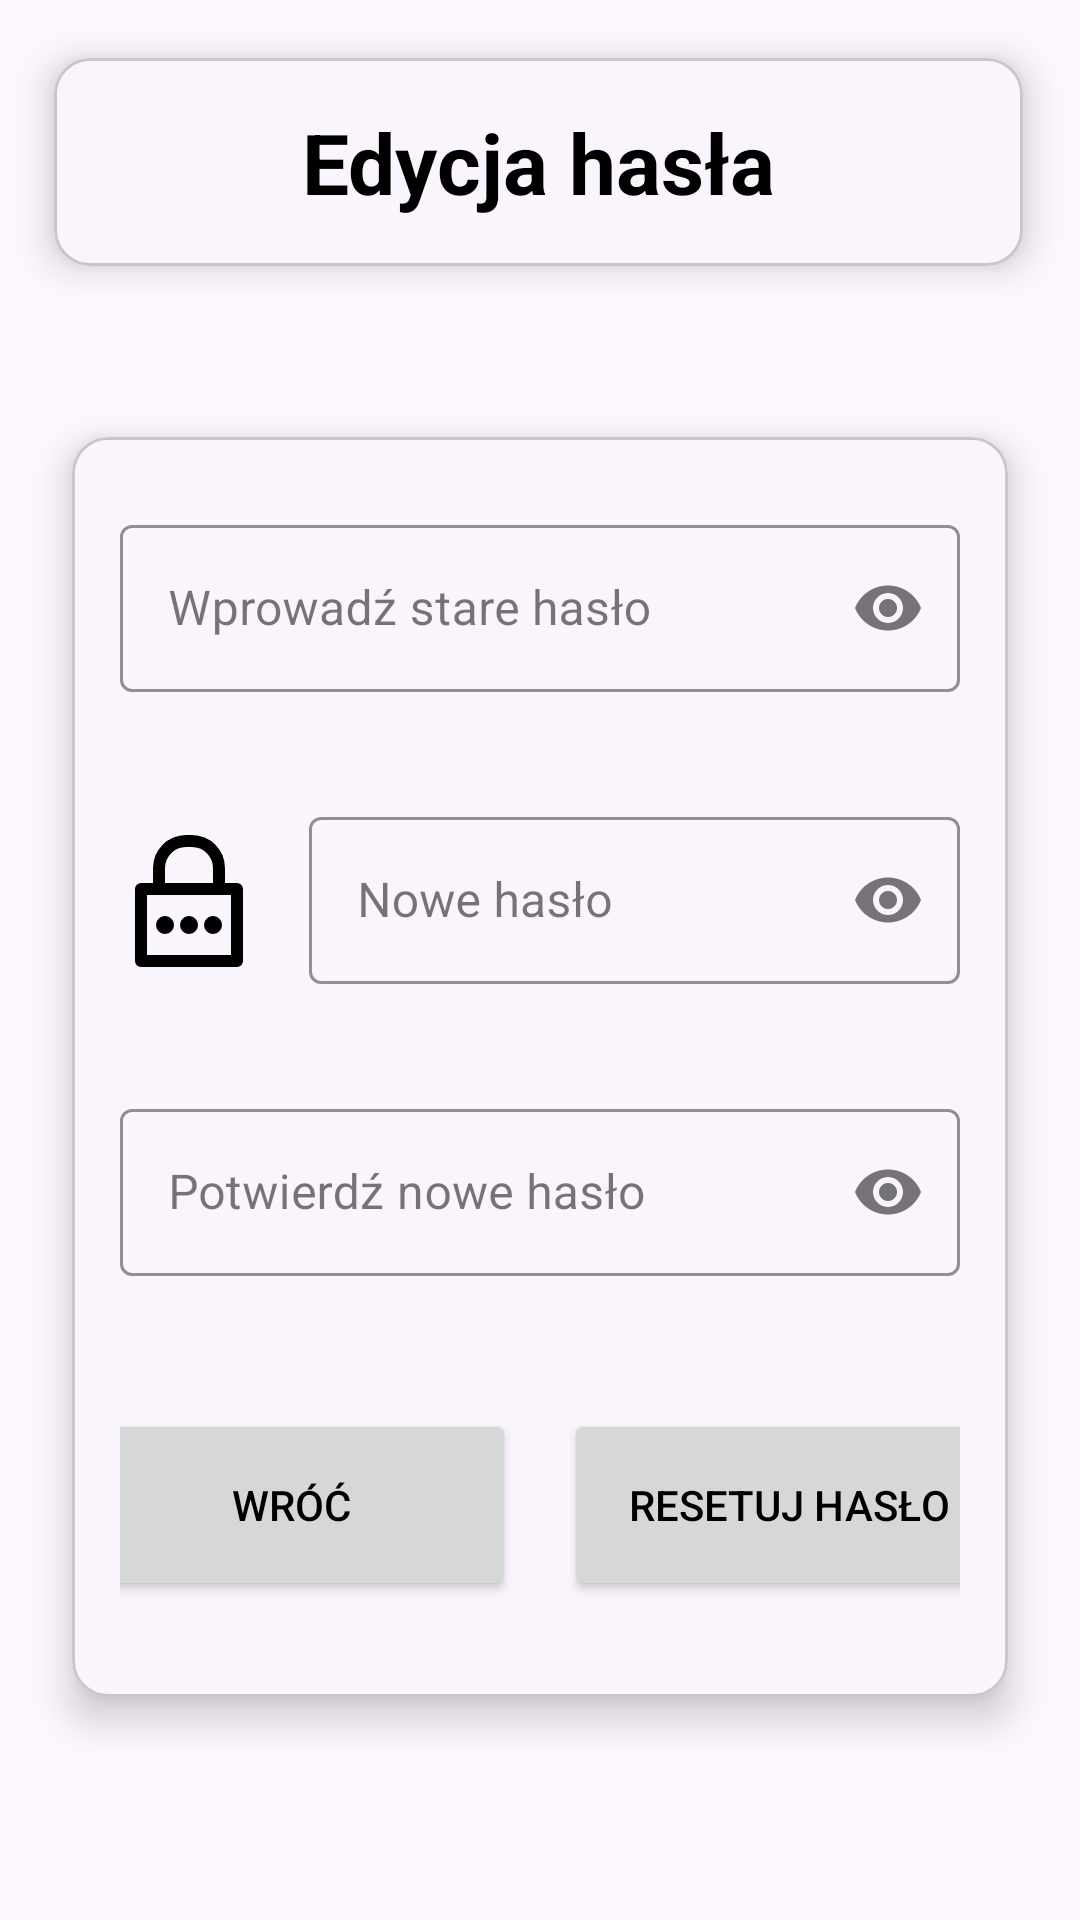

Icons on this 1080 × 1920 Android screen, each with the point to tap as (x=x, y=y):
password lock: (x=189, y=901)
